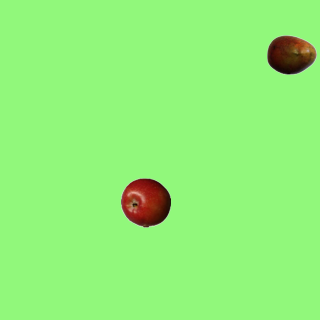Apple Braeburn: (120, 177, 170, 227)
Mango Red: (266, 29, 316, 79)
